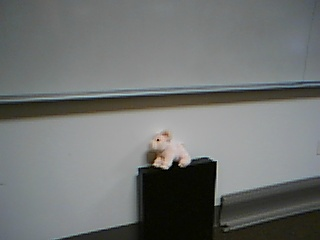piggy: (150, 130, 192, 170)
